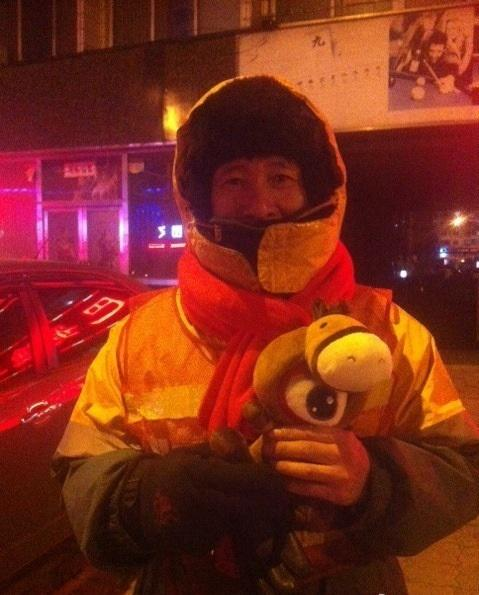WRONG: (205, 145, 318, 247)
